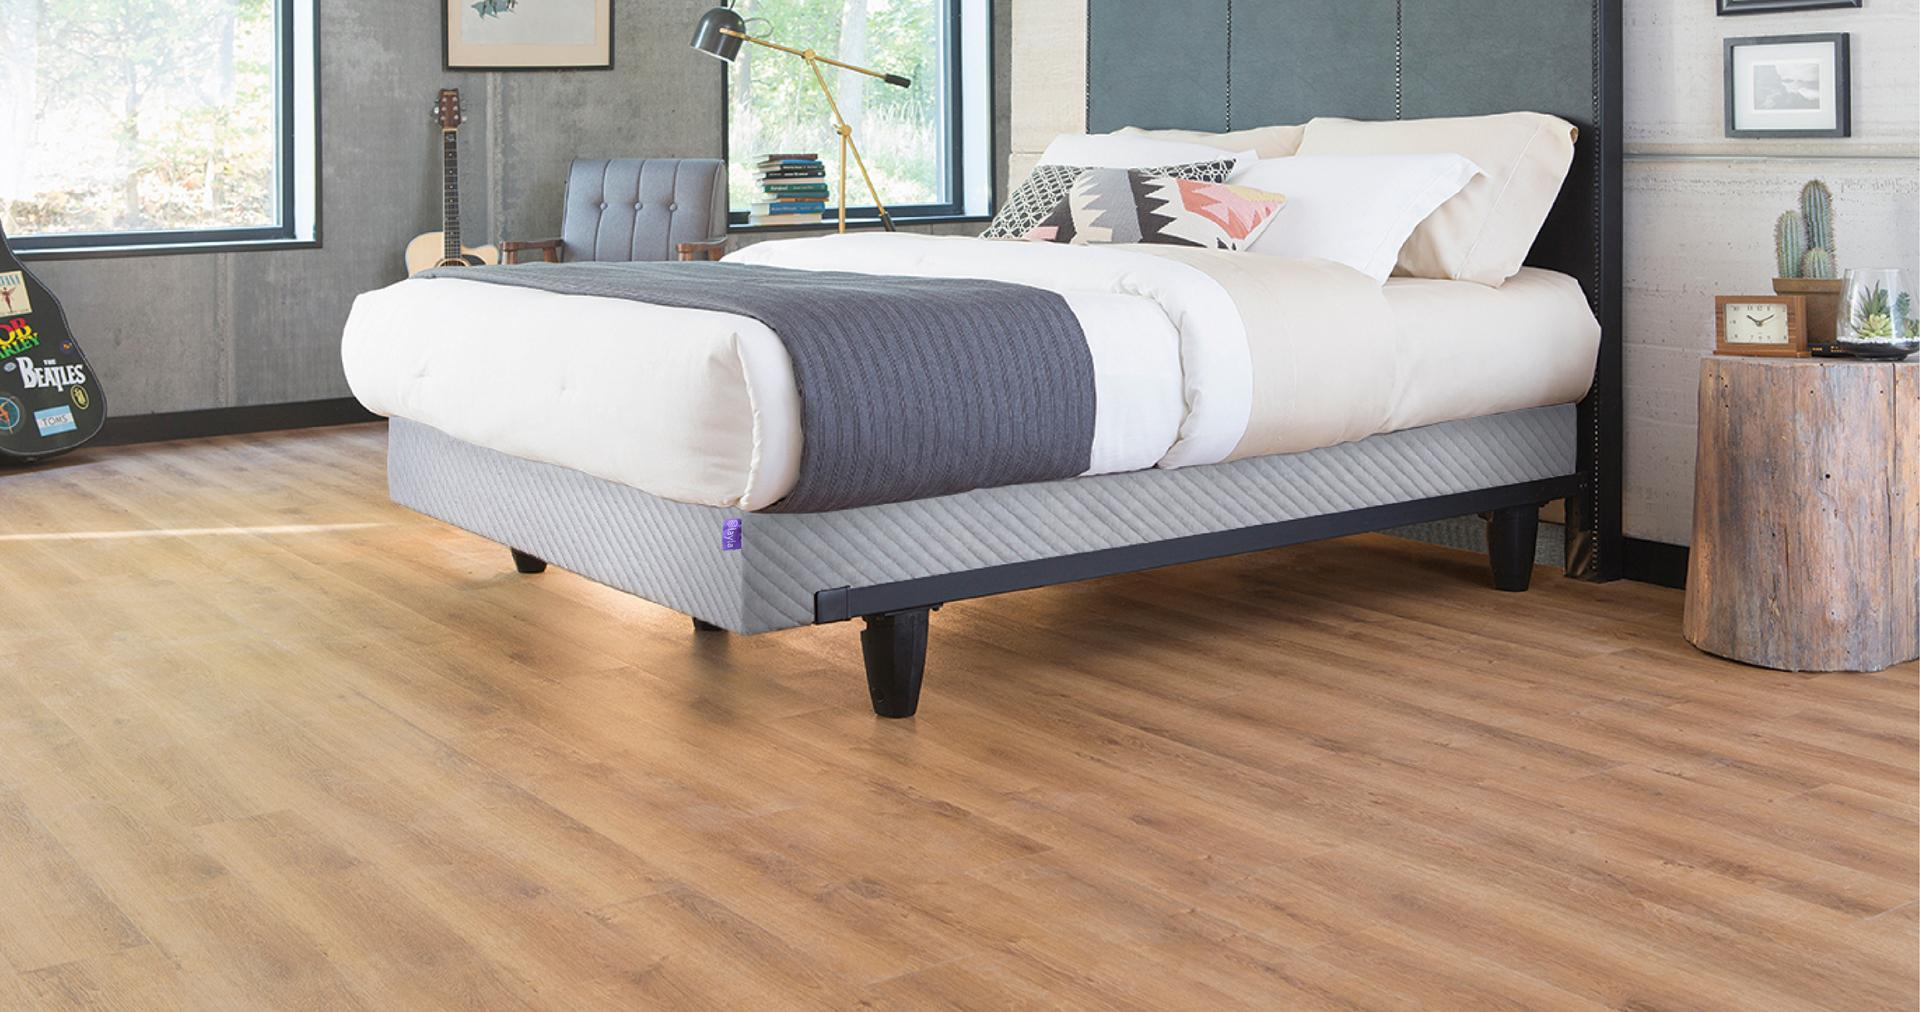bed: (286, 15, 1665, 734)
